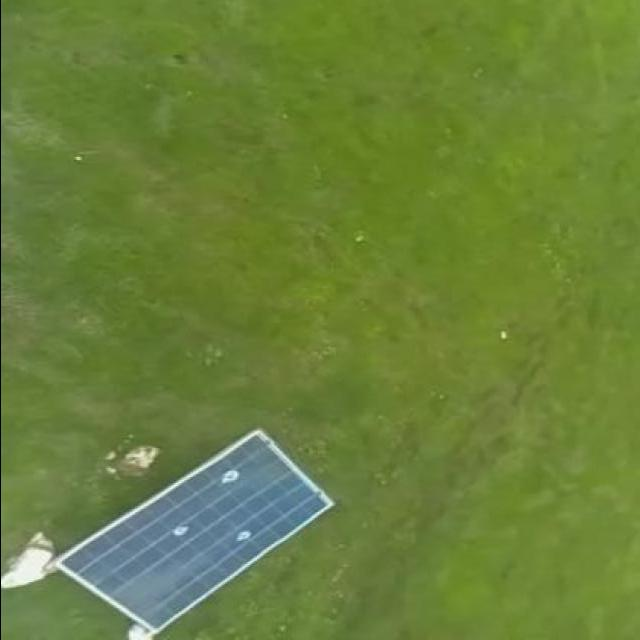soiled: (51, 420, 342, 632)
